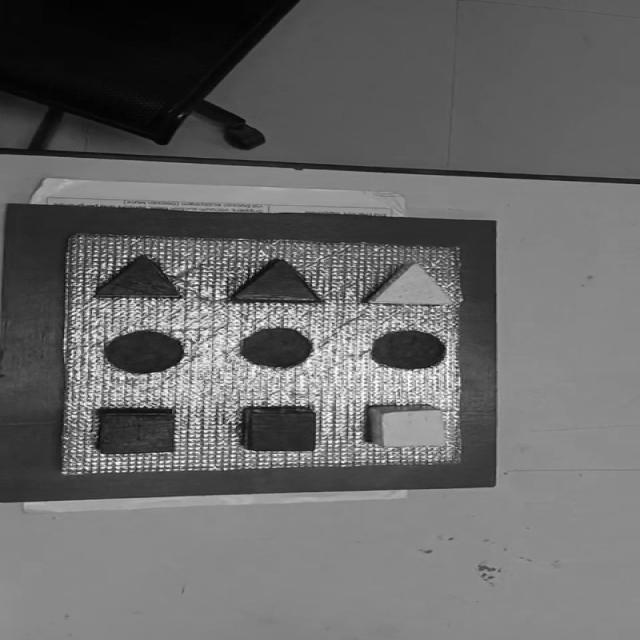bcube: (95, 407, 178, 455)
btriangle: (94, 254, 184, 299)
mtcircle: (102, 329, 189, 374), (370, 328, 448, 368), (240, 327, 314, 367)
rcube: (240, 406, 318, 451)
rtriangle: (228, 258, 324, 303)
wb: (57, 234, 470, 476)
ycube: (370, 404, 446, 448)
ytriangle: (364, 260, 457, 306)
